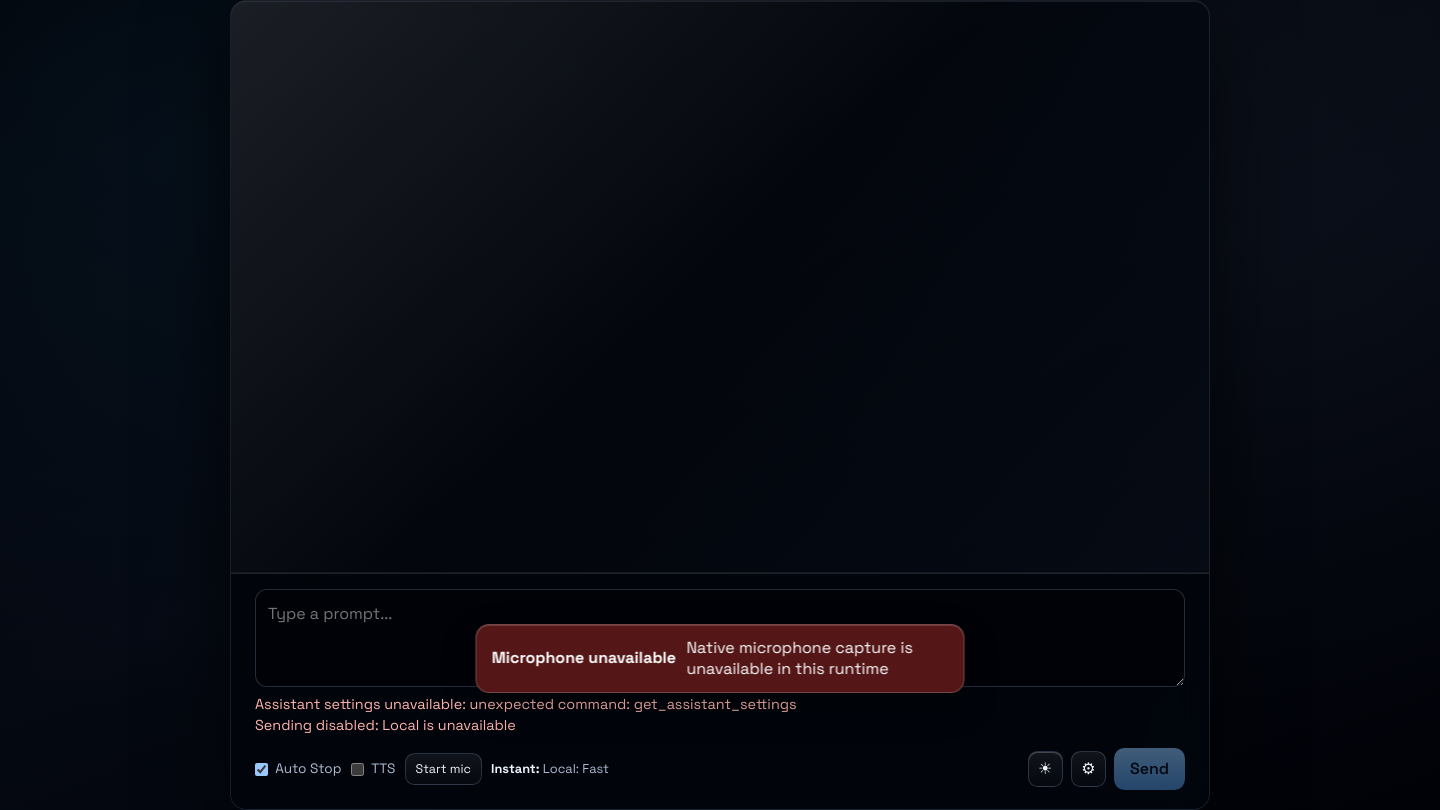
Test: App › keeps unrelated providers and retry available after a persistent local retry failure
Click the button "⚙" at point(1088, 769), box [1071,751,1106,787]
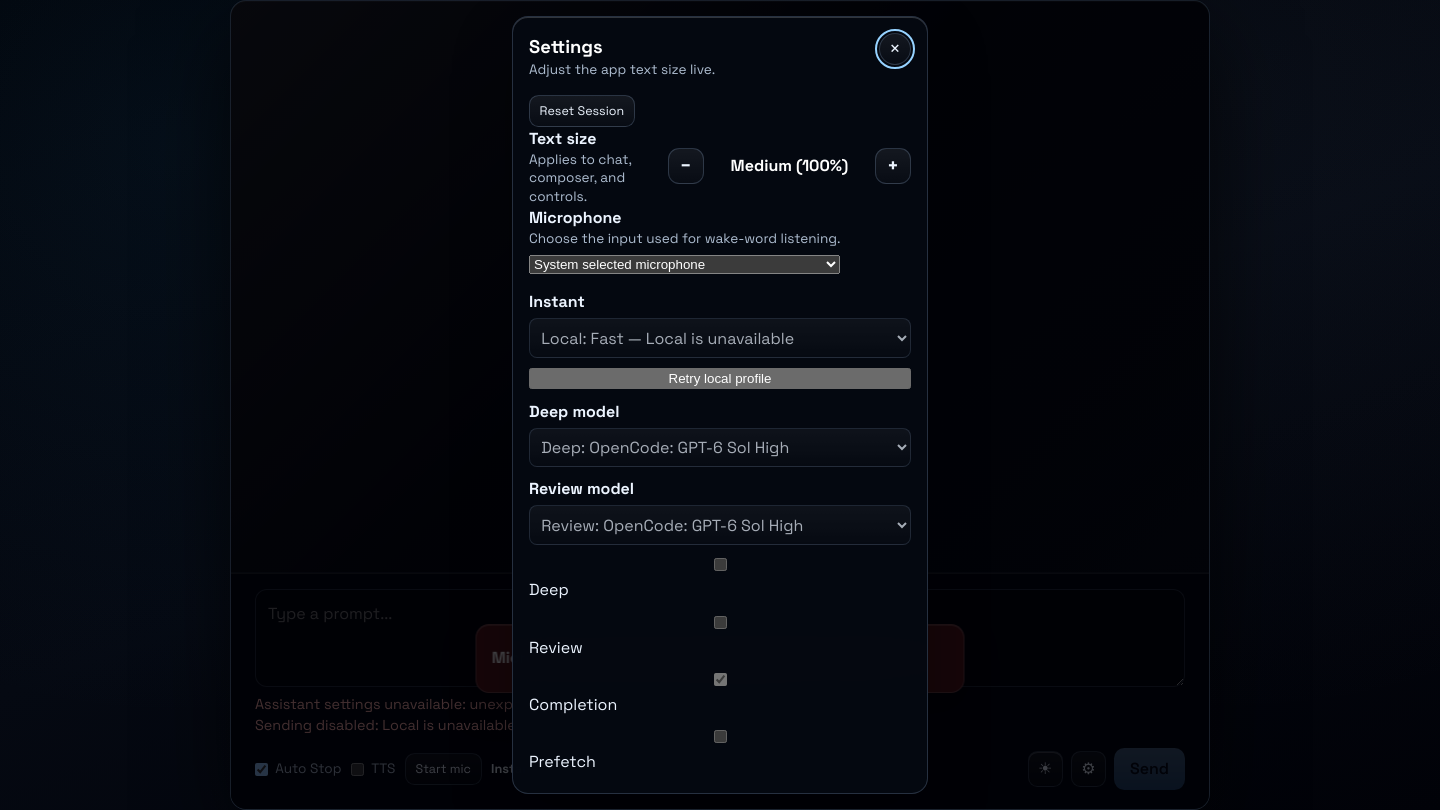
Click the button "Retry local profile" at point(720, 379), box [529,368,911,389]
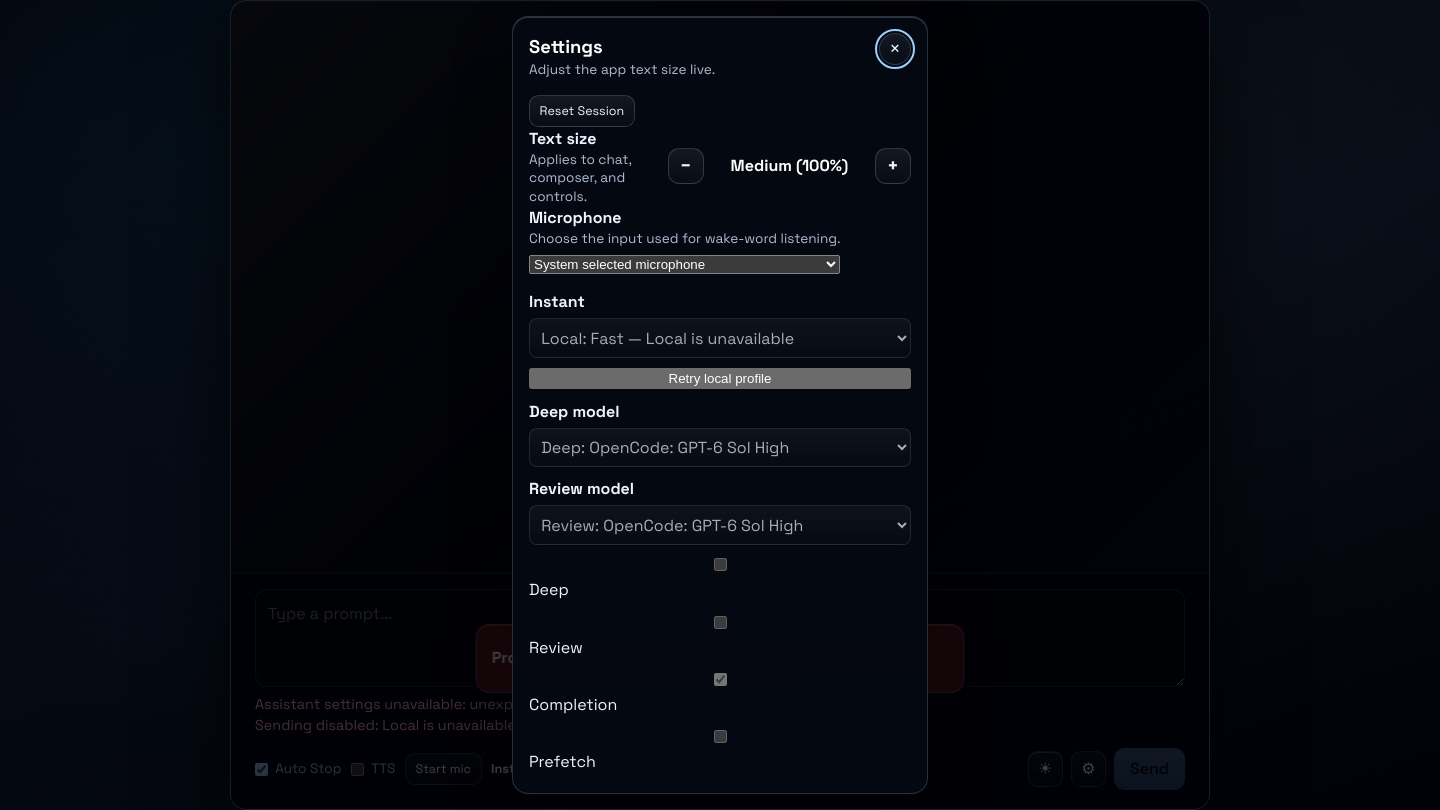
Check: the submit button is disabled, box [1114,748,1185,790]
Check: the text "Profile switch failed" is shown, box [492,646,645,670]
